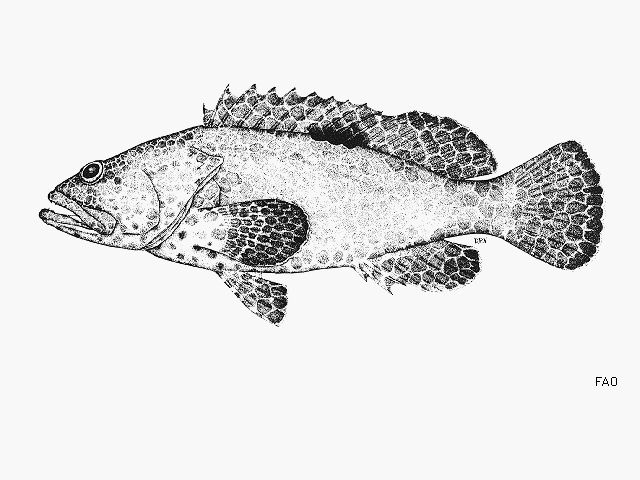fish: (38, 82, 605, 328)
